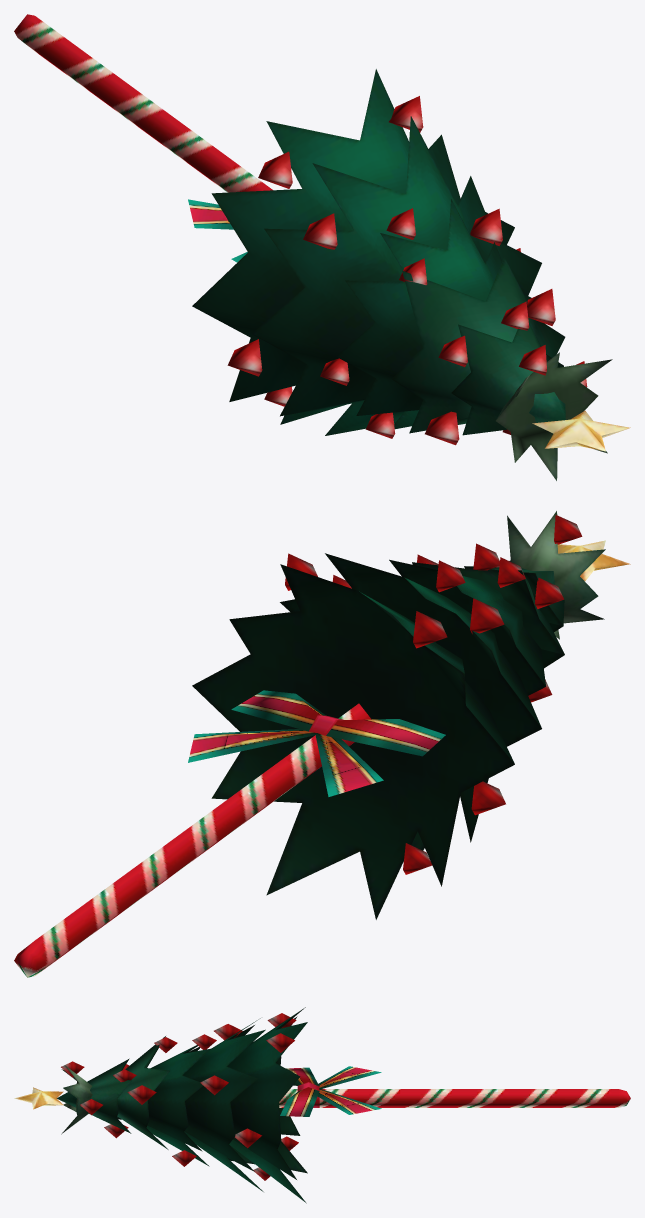
Rendered from lance0039.fbx.
The picture shows the model from 3 angles, top to bottom: view 1: azimuth 30°, elevation 25°; view 2: azimuth 150°, elevation 25°; view 3: azimuth 270°, elevation 25°; orthographic projection. The views are drawn at different scales.
Visible parts, largest first — view 1: lance0039_m; view 2: lance0039_m; view 3: lance0039_m.
Boxes of the visible parts, x1,y1,x2,y2 form: lance0039_m: (14, 14, 630, 480); lance0039_m: (14, 511, 630, 977); lance0039_m: (14, 1007, 630, 1203).
Bounding box in the file's own units: 0.3597 × 0.3573 × 1.12.
